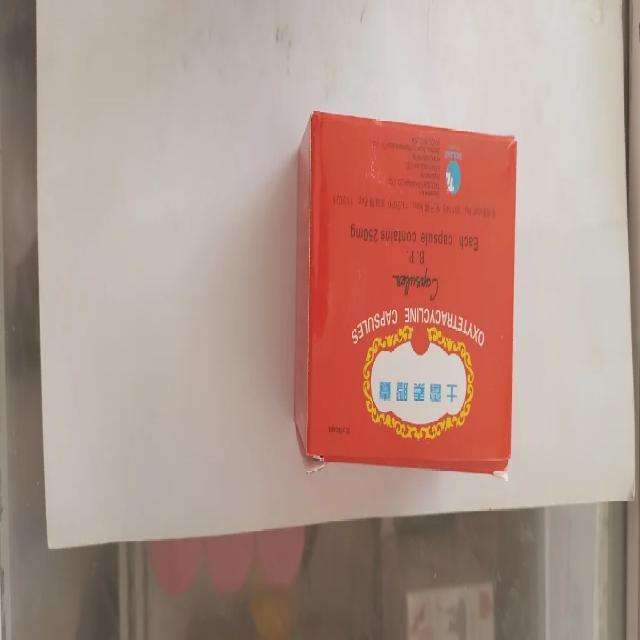drug-name: (403, 301, 490, 351)
